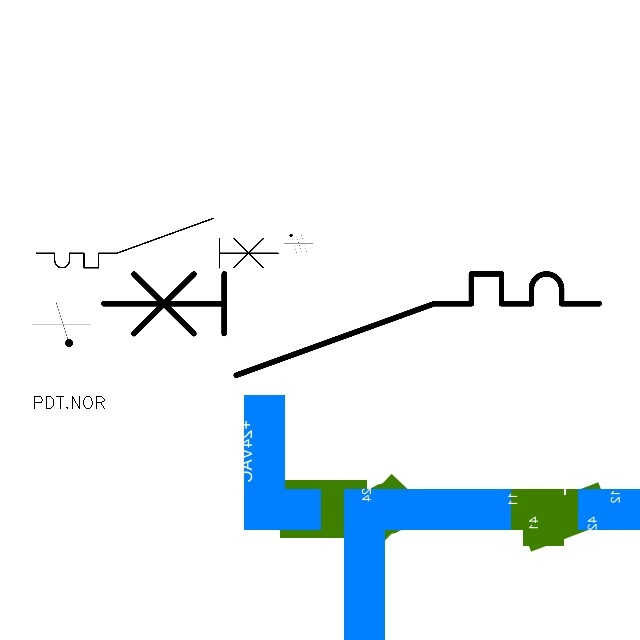interruptor_termomagnetico: (90, 261, 611, 388), (30, 212, 284, 274)
